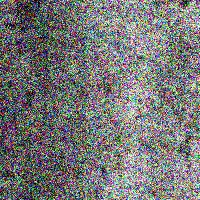crazing: (53, 113, 124, 197), (135, 97, 199, 158)
